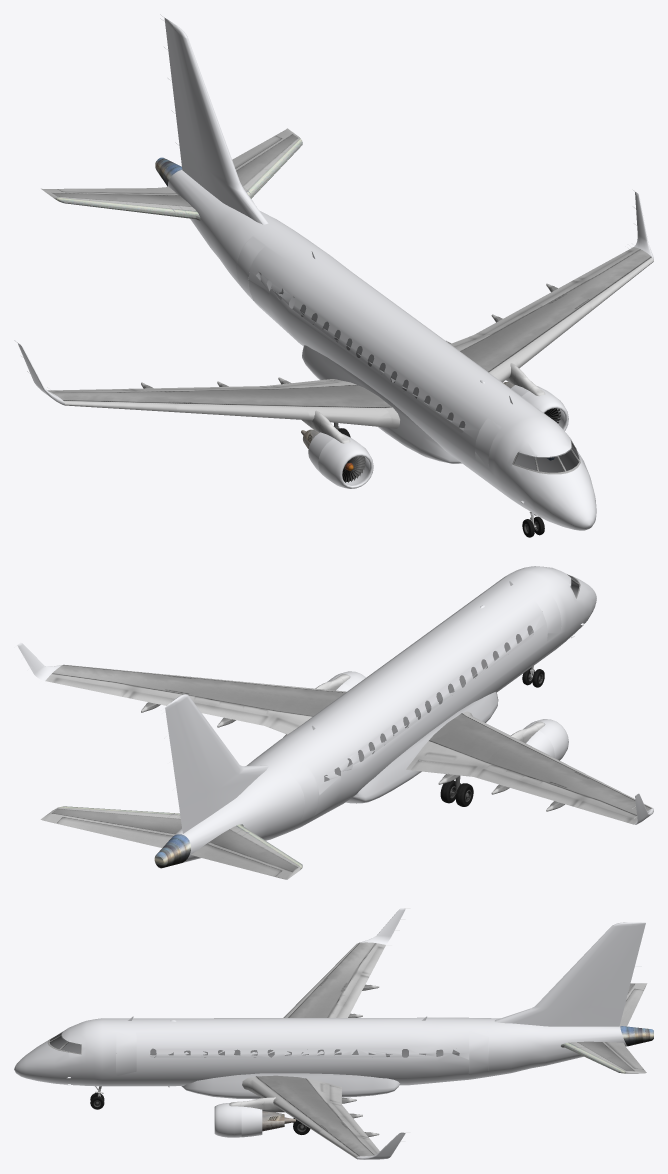
The picture shows the model from 3 angles, top to bottom: view 1: azimuth 30°, elevation 25°; view 2: azimuth 150°, elevation 25°; view 3: azimuth 270°, elevation 25°; orthographic projection. The views are drawn at different scales.
Parts seen in each view (by area): view 1: body, rud1; view 2: body, rud1, elevL1, flapL2, flapR2, gear, elevR1, flapR1, spoilL2, ailL1; view 3: body, rud1, flapR2, elevR1, gear, elevL1.
Boxes of the visible parts, x1=… form: body: x1=14, y1=23, x2=653, y2=530; rud1: x1=160, y1=14, x2=200, y2=175; body: x1=14, y1=566, x2=653, y2=879; rud1: x1=161, y1=700, x2=207, y2=826; elevL1: x1=50, y1=814, x2=168, y2=847; flapL2: x1=128, y1=691, x2=267, y2=727; flapR2: x1=476, y1=770, x2=578, y2=811; gear: x1=440, y1=666, x2=544, y2=806; elevR1: x1=198, y1=845, x2=285, y2=878; flapR1: x1=410, y1=760, x2=474, y2=784; spoilL2: x1=194, y1=697, x2=267, y2=716; ailL1: x1=52, y1=679, x2=127, y2=696; body: x1=14, y1=908, x2=653, y2=1159; rud1: x1=584, y1=922, x2=645, y2=1020; flapR2: x1=337, y1=975, x2=379, y2=1017; elevR1: x1=619, y1=986, x2=644, y2=1026; gear: x1=90, y1=1086, x2=310, y2=1134; elevL1: x1=606, y1=1044, x2=644, y2=1070.
Size of the model in its own units: 25.56 by 9.95 by 30.82.
9 materials, 6 textured.
